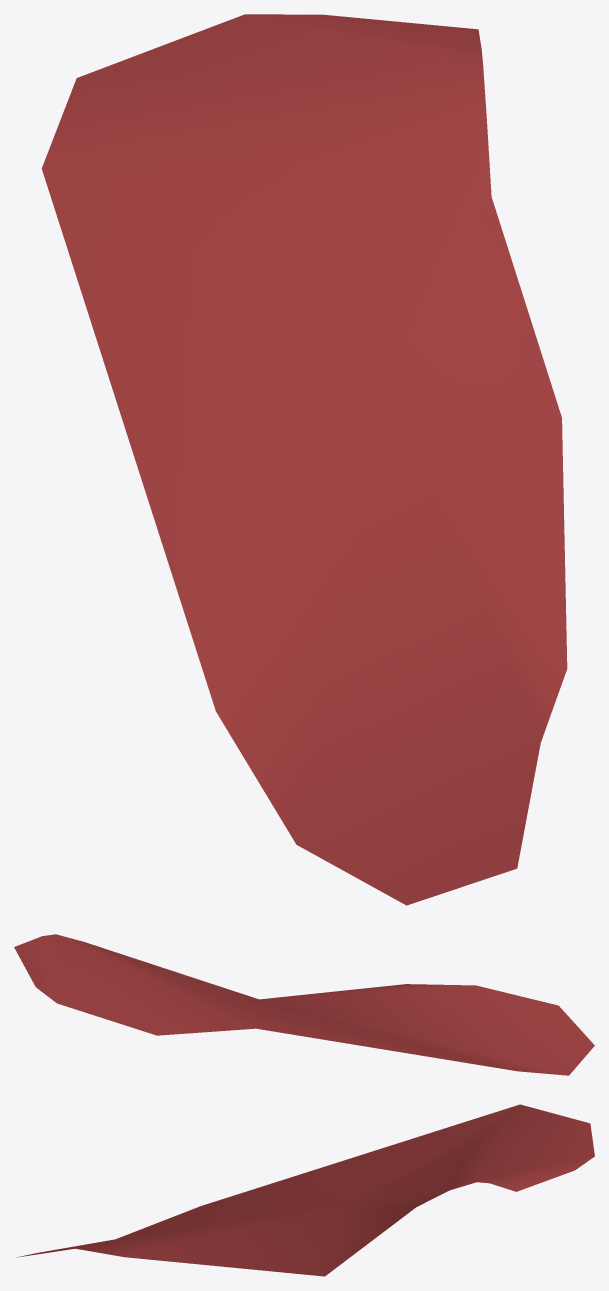
File: extensor-hallucis-longus-er.glb
The picture shows the model from 3 angles, top to bottom: view 1: azimuth 30°, elevation 25°; view 2: azimuth 150°, elevation 25°; view 3: azimuth 270°, elevation 25°; orthographic projection. The views are drawn at different scales.
Visible parts, largest first — view 1: Extensor hallucis longus.er; view 2: Extensor hallucis longus.er; view 3: Extensor hallucis longus.er.
Boxes of the visible parts, x1,y1,x2,y2 form: Extensor hallucis longus.er: (41,14,567,905); Extensor hallucis longus.er: (14,934,594,1075); Extensor hallucis longus.er: (16,1104,594,1276).
Size of the model in its own units: 0.00798 by 0.00518 by 0.0138.
